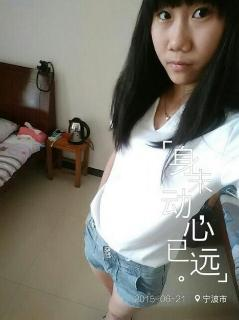short sleeve top: (91, 81, 239, 268)
shorts: (85, 211, 172, 308)
